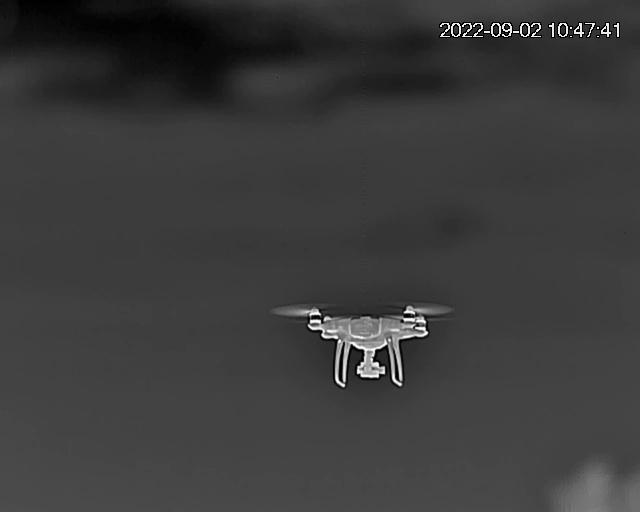DJI-Phantom: (272, 299, 457, 390)
